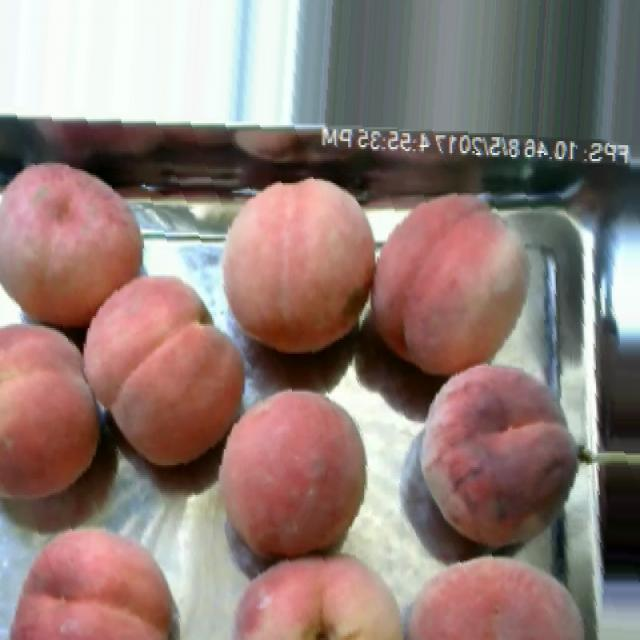Fruit: (396, 348, 597, 568), (89, 262, 263, 485), (197, 372, 387, 574), (368, 189, 543, 389), (212, 167, 377, 368), (0, 145, 160, 342), (1, 509, 196, 640), (0, 306, 119, 519), (209, 534, 421, 640), (392, 538, 608, 640)
